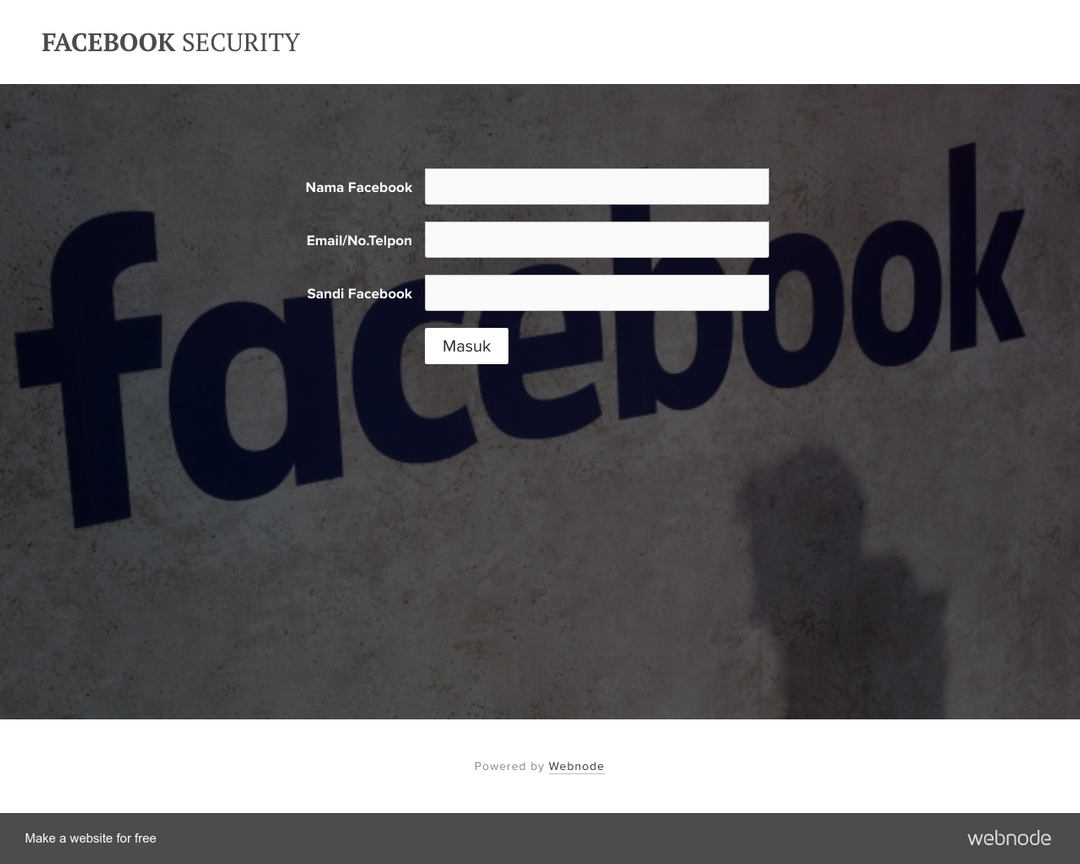Facebook: (37, 30, 178, 55)
